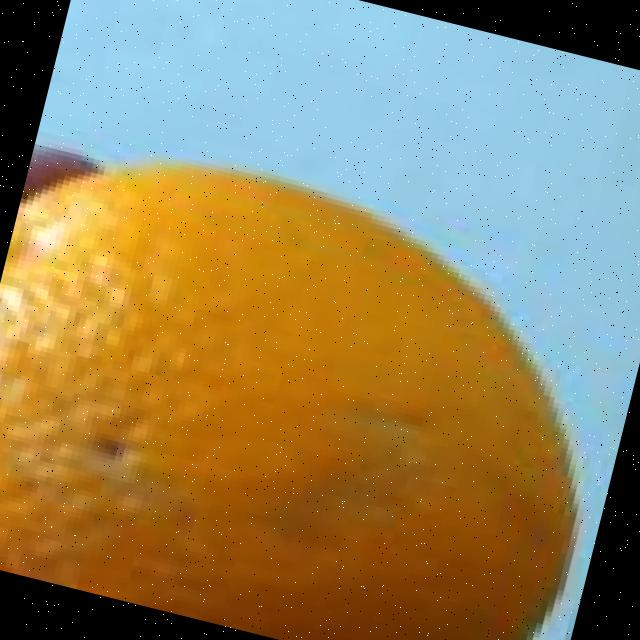Good_Orange-15-21 days: (0, 163, 578, 640)
